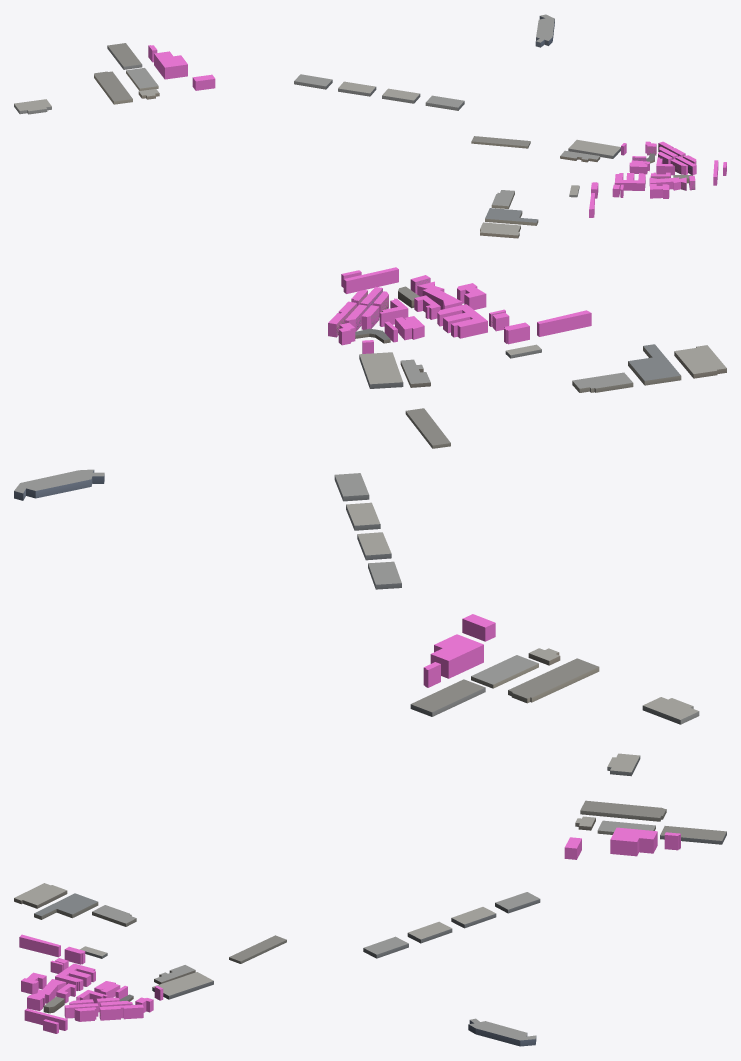
The model's file is bld_12_12.fbx.
The picture shows the model from 3 angles, top to bottom: view 1: azimuth 30°, elevation 25°; view 2: azimuth 150°, elevation 25°; view 3: azimuth 270°, elevation 25°; orthographic projection. The views are drawn at different scales.
Visible parts, largest first — view 1: bld_12_12_LOD0, bld_12_12_COL; view 2: bld_12_12_LOD0, bld_12_12_COL; view 3: bld_12_12_LOD0, bld_12_12_COL.
Boxes of the visible parts, left/top/right/bottom form: bld_12_12_LOD0: left=14, top=14, right=695, bottom=238; bld_12_12_COL: left=148, top=45, right=726, bottom=217; bld_12_12_LOD0: left=14, top=279, right=726, bottom=724; bld_12_12_COL: left=328, top=267, right=591, bottom=687; bld_12_12_LOD0: left=14, top=753, right=726, bottom=1046; bld_12_12_COL: left=19, top=827, right=680, bottom=1033.
Size of what is drawn, in the model's own units: 2032 by 46.92 by 2117.
